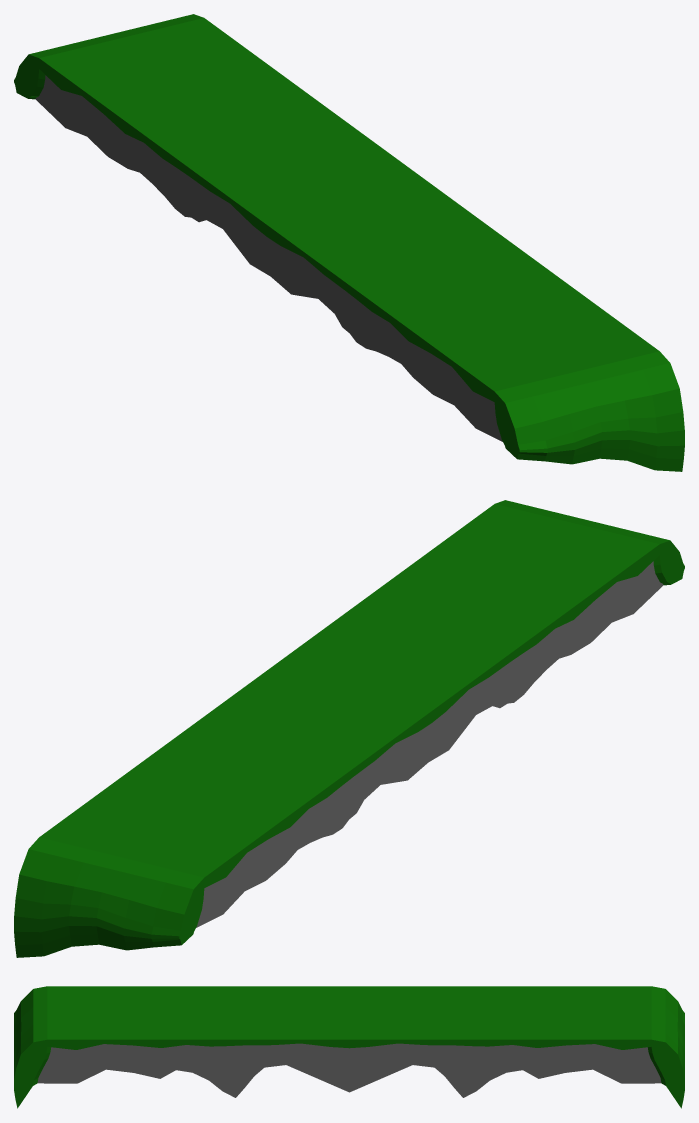
File: 崖足場色.fbx
3 views of the same model, one above another, from view 1: azimuth 30°, elevation 25°; view 2: azimuth 150°, elevation 25°; view 3: azimuth 270°, elevation 25° (orthographic). The views are drawn at different scales.
Visible parts, largest first — view 1: Cube; view 2: Cube; view 3: Cube.
Part boxes in pixels (x1=…): Cube: x1=14, y1=14, x2=684, y2=471; Cube: x1=14, y1=500, x2=684, y2=957; Cube: x1=14, y1=986, x2=684, y2=1108.
Bounding box in the file's own units: 209 × 126 × 1110.
